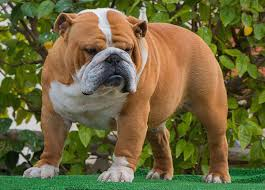dog: (22, 7, 235, 182)
